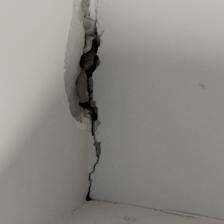Medium: (46, 85, 149, 211)
